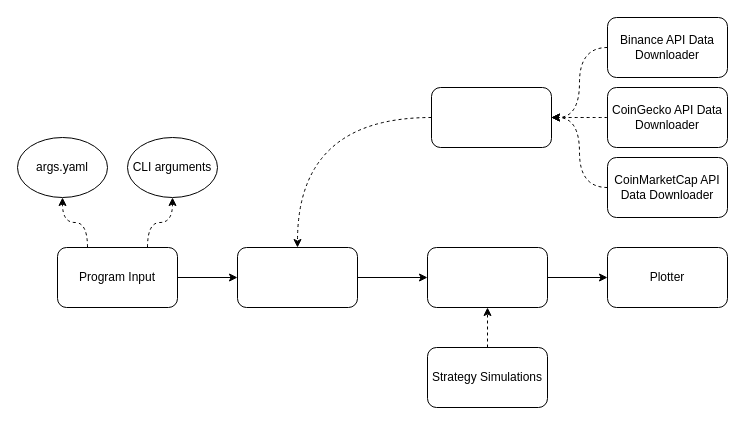
This 745x425 diagram has some shape labels left out. Each missing label, with the centre of its shape:
API Data Downloader: point 491,117
Argument Parser: point 297,277
Simulator: point 487,277
